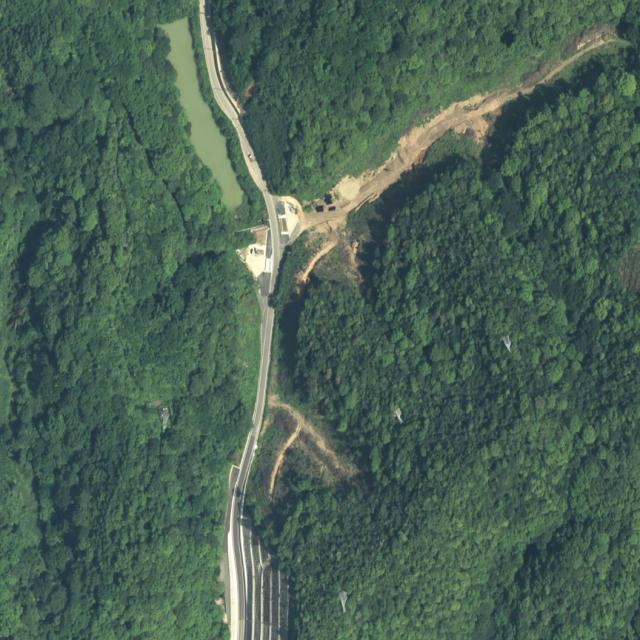landslide: (302, 36, 621, 228)
